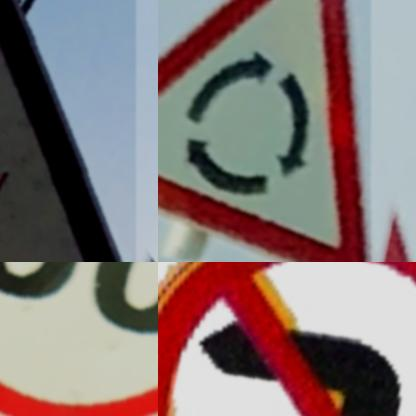No left turn: (158, 262, 416, 416)
Roundabout Ahead: (158, 0, 368, 262)
Speed Limit (80 kmph): (0, 262, 158, 416)
